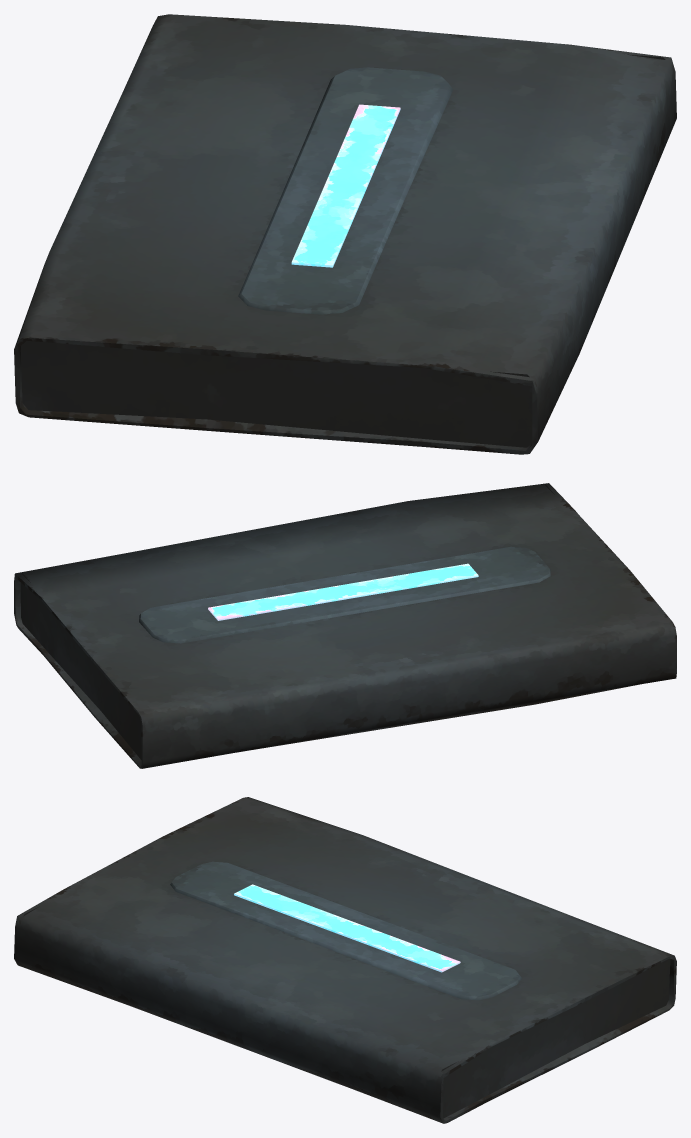
The model's file is Body1.gltf.
The picture shows the model from 3 angles, top to bottom: view 1: azimuth 30°, elevation 25°; view 2: azimuth 150°, elevation 25°; view 3: azimuth 270°, elevation 25°; orthographic projection. The views are drawn at different scales.
Visible parts, largest first — view 1: PlatformModel1; view 2: PlatformModel1; view 3: PlatformModel1.
Part boxes in pixels (<box>): PlatformModel1: <box>14,14,676,454</box>; PlatformModel1: <box>14,483,676,768</box>; PlatformModel1: <box>14,797,676,1123</box>.
Size of the model in its own units: 1.48 by 0.172 by 1.54.
Materials: 4 (4 with a texture image).
